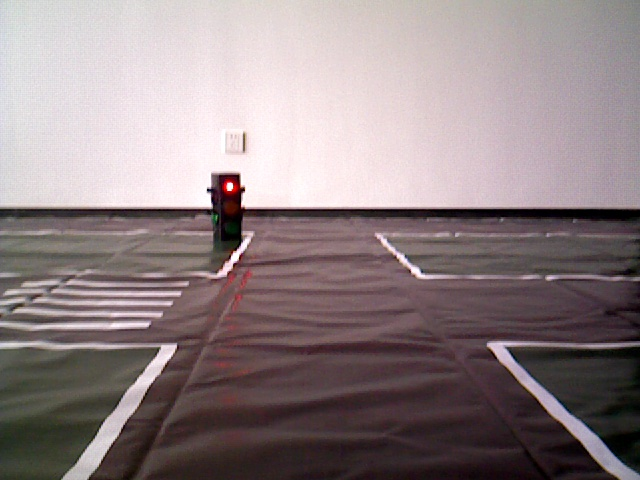red: (212, 177, 238, 243)
